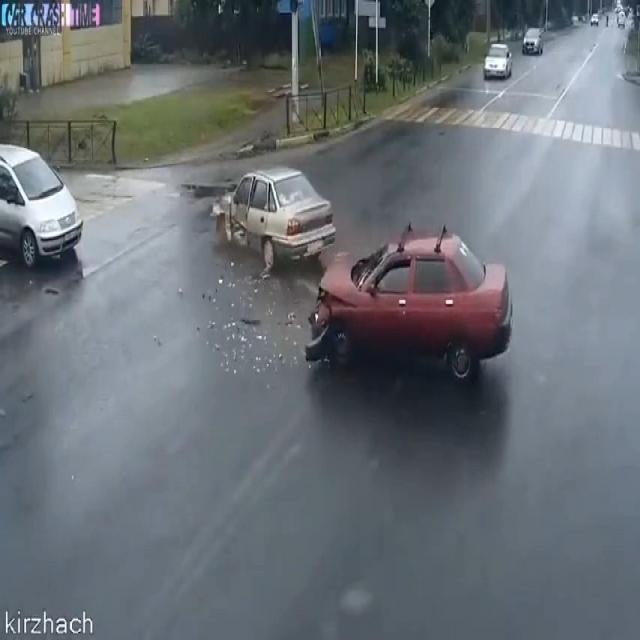Accident: (195, 123, 537, 456)
